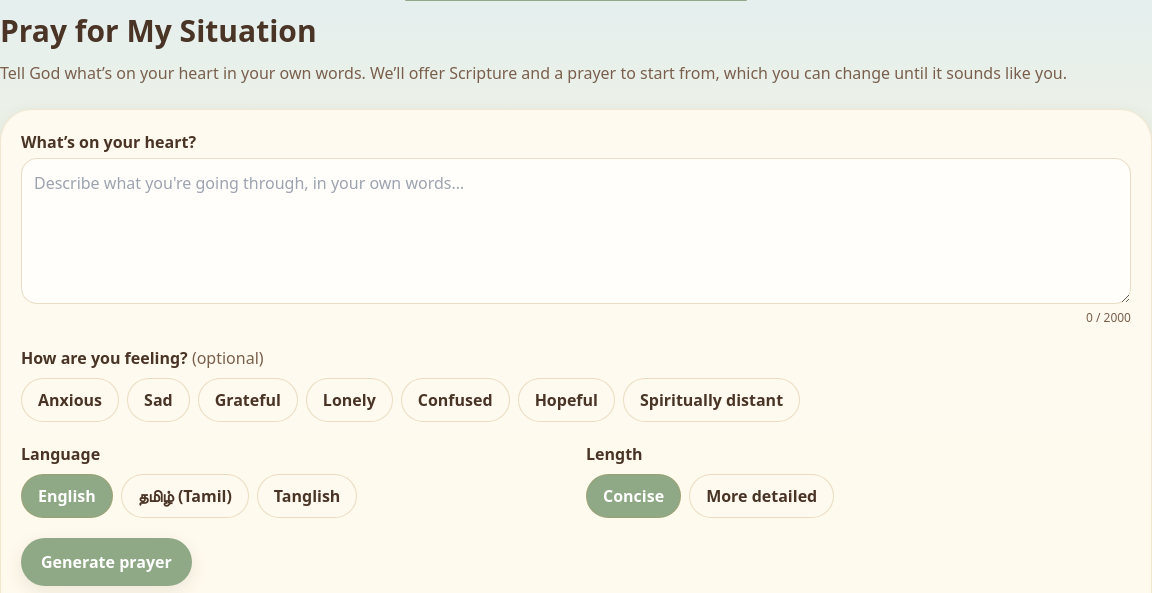
Test: Scripture is rendered separately from generated text › includes a standing disclaimer that outcomes are not promised
The width and height of the screenshot is (1152, 593).
Type "I am anxious about my exams and cannot sleep." into the text box labelled "What’s on your heart? 0 / 2000". click: (576, 231)
box: [21,158,1131,304]
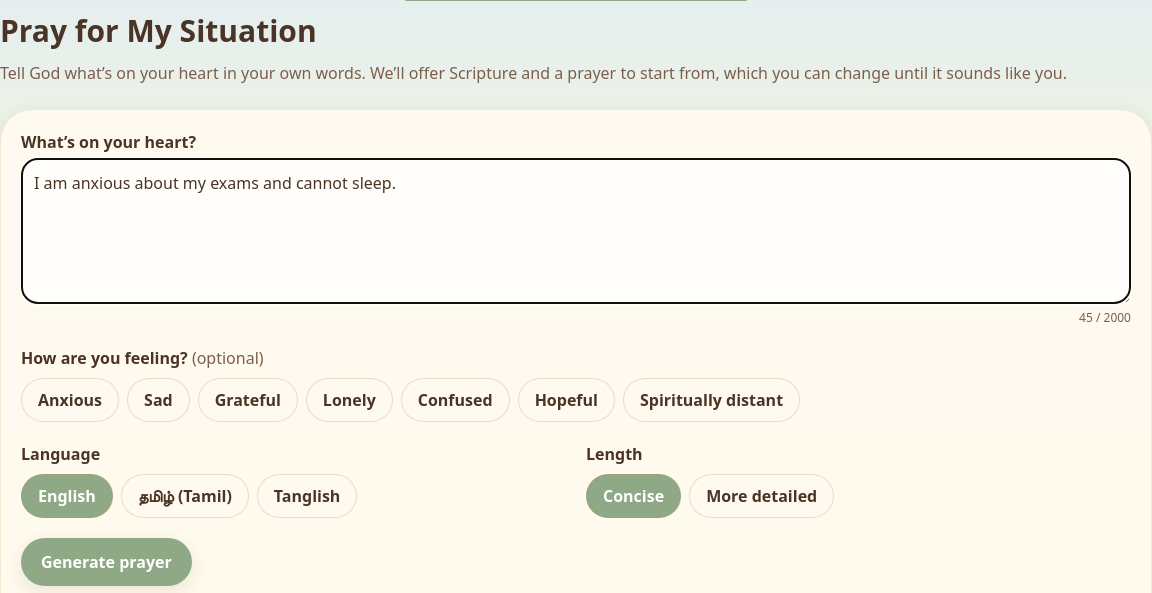
Click the button "Generate prayer". click: click(106, 562)
box: [21,538,192,586]
(page scrolled)
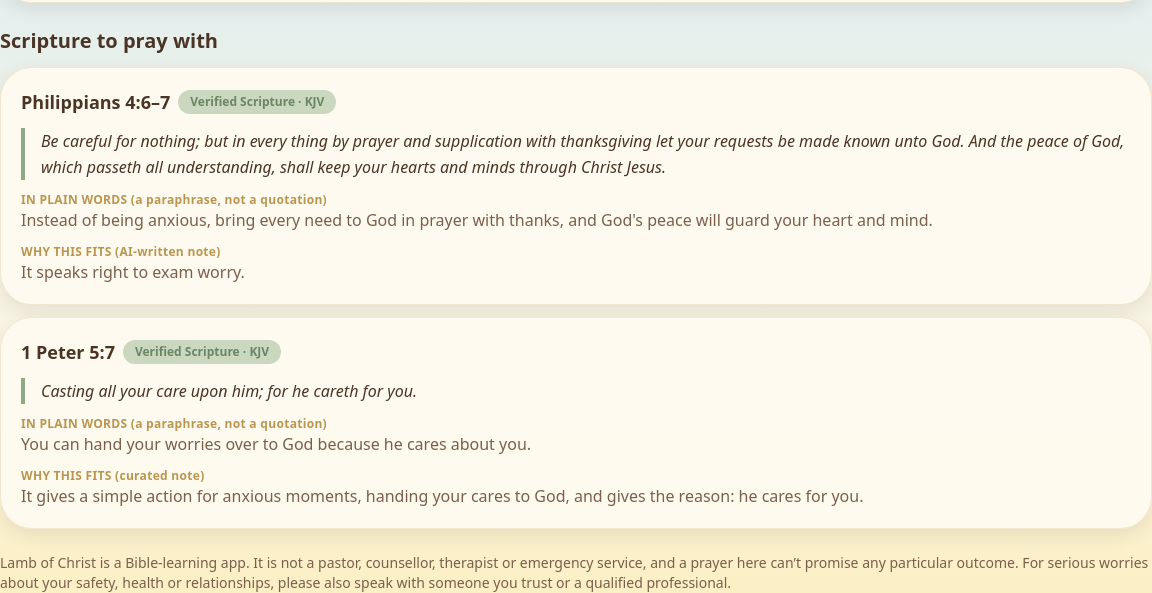
expect the text "not a pastor, counsellor, therapist or emergency service" is shown: met, box [0,553,1148,592]
